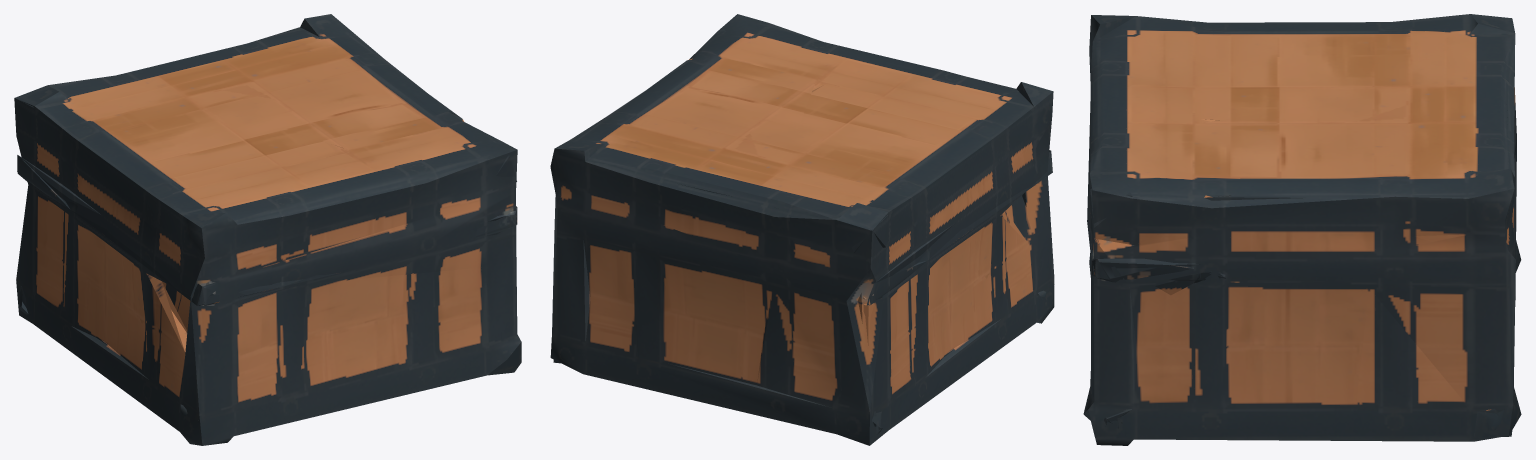
Rendered from cargo_crate.glb.
3 views of the same model, side by side, from view 1: azimuth 30°, elevation 25°; view 2: azimuth 150°, elevation 25°; view 3: azimuth 270°, elevation 25° (orthographic). The views are drawn at different scales.
Parts seen in each view (by area): view 1: cargo_crate; view 2: cargo_crate; view 3: cargo_crate.
Part boxes in pixels (x1,y1,x2,y2): cargo_crate: (14,14,521,445); cargo_crate: (550,14,1054,445); cargo_crate: (1083,14,1521,445).
Bounding box in the file's own units: 1.2 × 0.8 × 1.21.
1 material, 1 textured.
